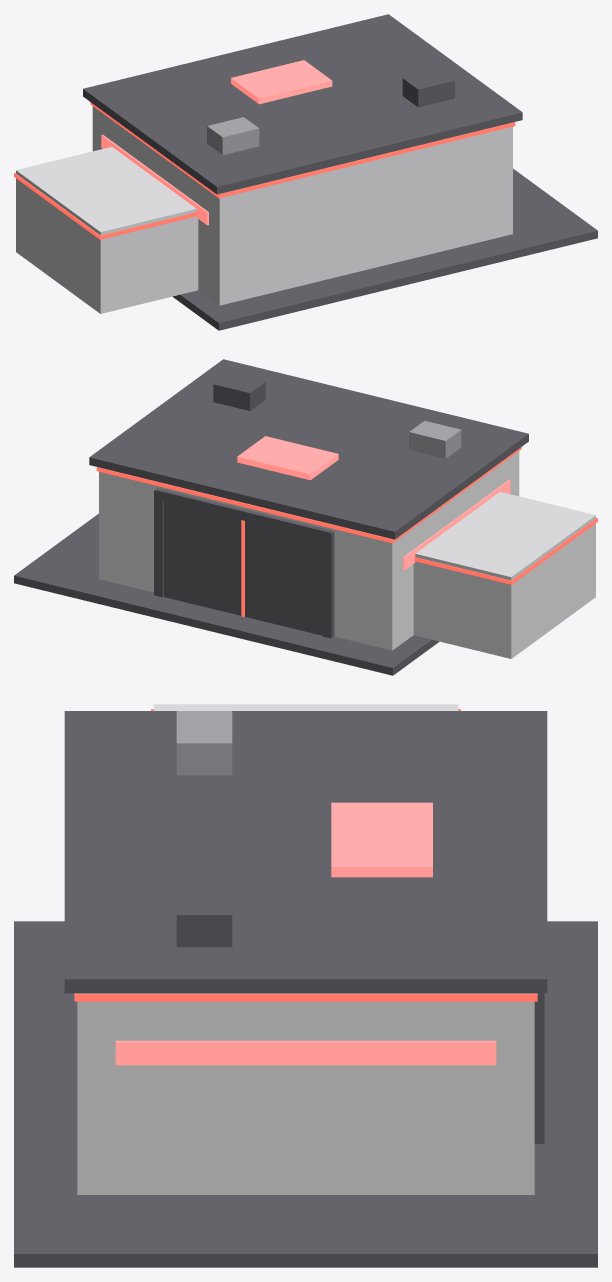
The model's file is jp_vehicle_factory.glb.
3 renders of one model, top to bottom at view 1: azimuth 30°, elevation 25°; view 2: azimuth 150°, elevation 25°; view 3: azimuth 270°, elevation 25°, orthographic. The views are drawn at different scales.
Visible parts, largest first — view 1: RoofSlab, Hall, Annex, Pad, Skylight, Strip, VentA, VentB, AnnexBand, WinR; view 2: RoofSlab, Annex, Hall, DoorPanel, Pad, Skylight, DoorFrameT, Strip, VentA, VentB, DoorFrameL, DoorFrameR (+2 smaller); view 3: RoofSlab, Hall, Pad, WinL, Skylight, Strip, VentB, VentA, Annex, DoorFrameR.
Boxes of the visible parts, x1,y1,x2,y2 form: RoofSlab: [83, 14, 522, 194]; Hall: [92, 106, 512, 305]; Annex: [16, 147, 198, 313]; Pad: [172, 168, 597, 330]; Skylight: [231, 60, 332, 104]; Strip: [90, 102, 515, 198]; VentA: [207, 117, 259, 154]; VentB: [402, 69, 454, 107]; AnnexBand: [14, 173, 197, 239]; WinR: [101, 135, 208, 225]; RoofSlab: [89, 359, 528, 539]; Annex: [413, 492, 595, 658]; Hall: [99, 451, 519, 650]; DoorPanel: [164, 501, 322, 635]; Pad: [14, 513, 439, 675]; Skylight: [237, 436, 338, 480]; DoorFrameT: [156, 488, 332, 540]; Strip: [96, 447, 521, 543]; VentA: [409, 420, 461, 458]; VentB: [213, 373, 265, 410]; DoorFrameL: [323, 531, 334, 638]; DoorFrameR: [154, 488, 163, 597]; RoofSlab: [64, 711, 547, 993]; Hall: [77, 993, 534, 1194]; Pad: [14, 921, 597, 1267]; WinL: [115, 1040, 496, 1065]; Skylight: [331, 802, 432, 877]; Strip: [74, 993, 537, 1001]; VentB: [176, 882, 232, 947]; VentA: [176, 711, 232, 775]; Annex: [153, 704, 458, 710]; DoorFrameR: [534, 993, 544, 1143].
Size of the model in its own units: 18.8 by 5.8 by 11.5.
